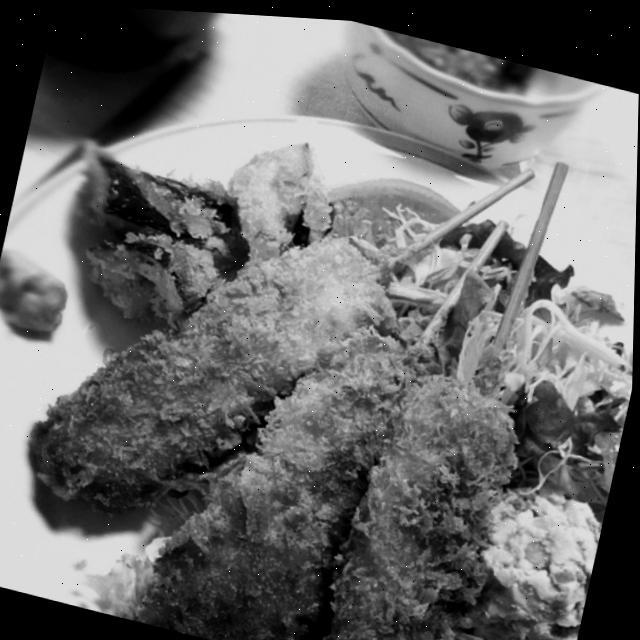刺身生食: (56, 3, 265, 158)
汤锅炖物: (206, 146, 351, 297)
鸡蛋料理: (251, 53, 362, 157)
